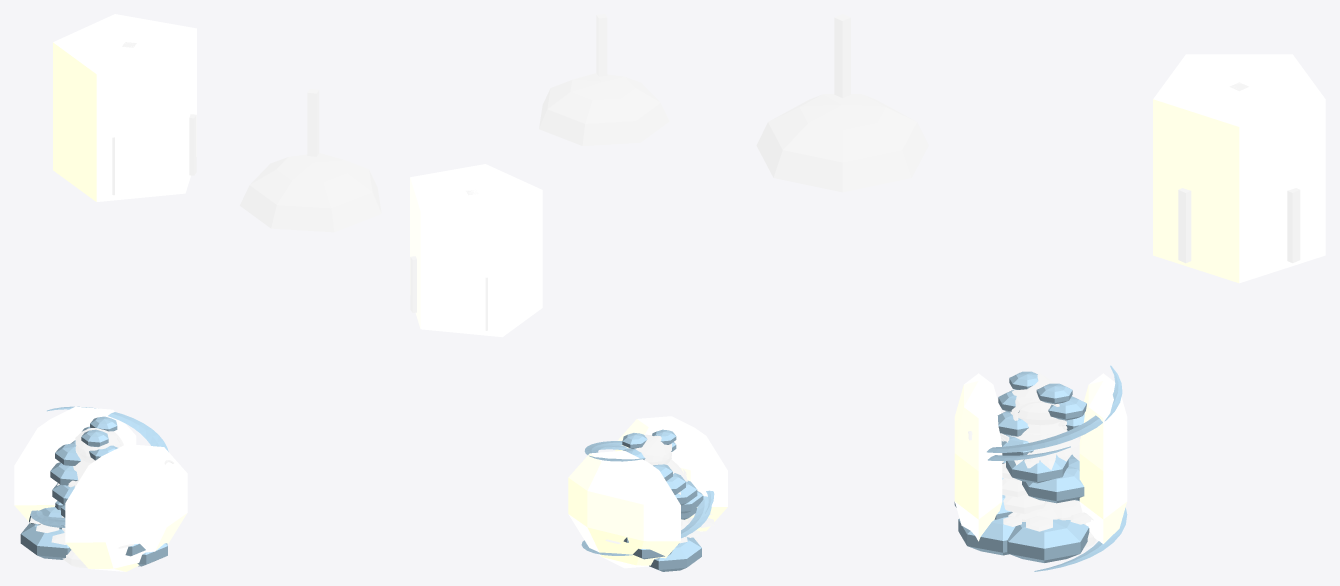
File: maitre-phare-v5-leger.glb
3 views of the same model, side by side, from view 1: azimuth 30°, elevation 25°; view 2: azimuth 150°, elevation 25°; view 3: azimuth 270°, elevation 25° (orthographic). The views are drawn at different scales.
Parts seen in each view (by area): view 1: maitre_phare_lanterne_lueur, maitre_phare_lumieres, maitre_phare_cloche.001, maitre_phare_corps.001, maitre_phare_brume_lueur, maitre_phare_lanterne.001; view 2: maitre_phare_lanterne_lueur, maitre_phare_lumieres, maitre_phare_cloche.001, maitre_phare_brume_lueur, maitre_phare_corps.001, maitre_phare_lanterne.001; view 3: maitre_phare_lanterne_lueur, maitre_phare_lumieres, maitre_phare_cloche.001, maitre_phare_corps.001, maitre_phare_brume_lueur, maitre_phare_lanterne.001.
Boxes of the visible parts, bbox=[...] form: maitre_phare_lanterne_lueur: bbox=[53, 14, 196, 201]; maitre_phare_lumieres: bbox=[14, 406, 187, 571]; maitre_phare_cloche.001: bbox=[240, 89, 381, 232]; maitre_phare_corps.001: bbox=[30, 428, 173, 567]; maitre_phare_brume_lueur: bbox=[30, 406, 168, 527]; maitre_phare_lanterne.001: bbox=[112, 42, 196, 195]; maitre_phare_lanterne_lueur: bbox=[410, 164, 542, 337]; maitre_phare_lumieres: bbox=[568, 416, 727, 571]; maitre_phare_cloche.001: bbox=[539, 14, 669, 145]; maitre_phare_brume_lueur: bbox=[581, 441, 714, 555]; maitre_phare_corps.001: bbox=[605, 434, 714, 543]; maitre_phare_lanterne.001: bbox=[410, 190, 487, 330]; maitre_phare_lanterne_lueur: bbox=[1153, 54, 1325, 283]; maitre_phare_lumieres: bbox=[954, 371, 1127, 562]; maitre_phare_cloche.001: bbox=[756, 14, 928, 192]; maitre_phare_corps.001: bbox=[968, 373, 1096, 547]; maitre_phare_brume_lueur: bbox=[987, 365, 1127, 571]; maitre_phare_lanterne.001: bbox=[1178, 82, 1300, 263].
Bounding box in the file's own units: 4.2 × 7.65 × 6.6.
